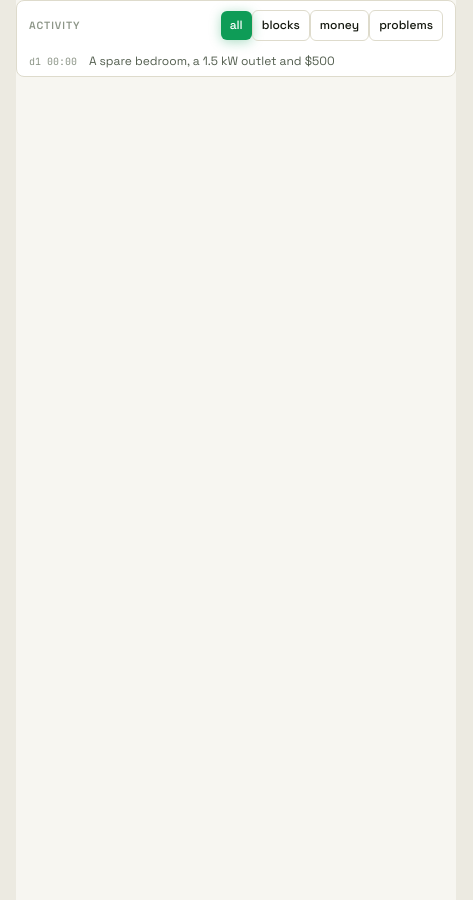
Test: Feed › shows a placeholder when a filter matches nothing
Click the button "blocks". click: [281, 26]
box: [252,10,310,41]
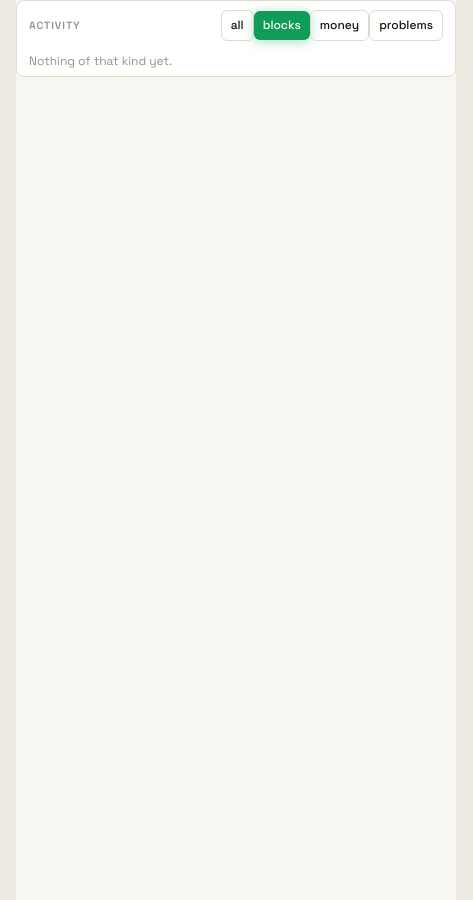
Expected: the text "Nothing of that kind yet" is shown, [29,53,172,69]
